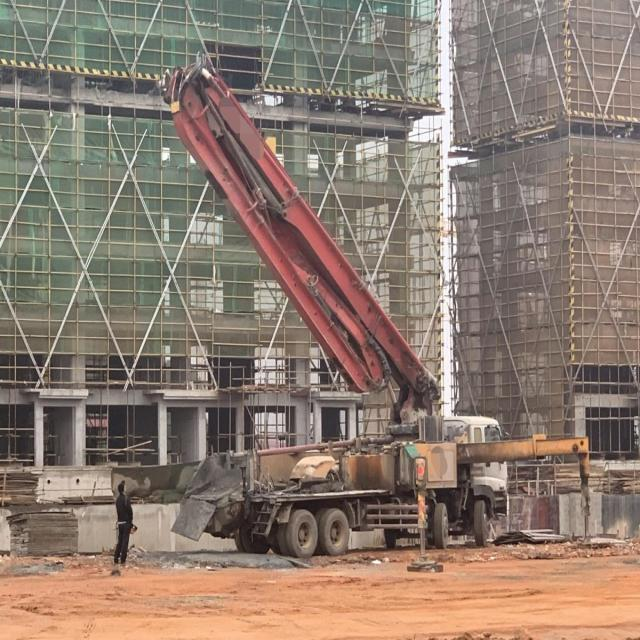truck: (141, 50, 640, 580)
